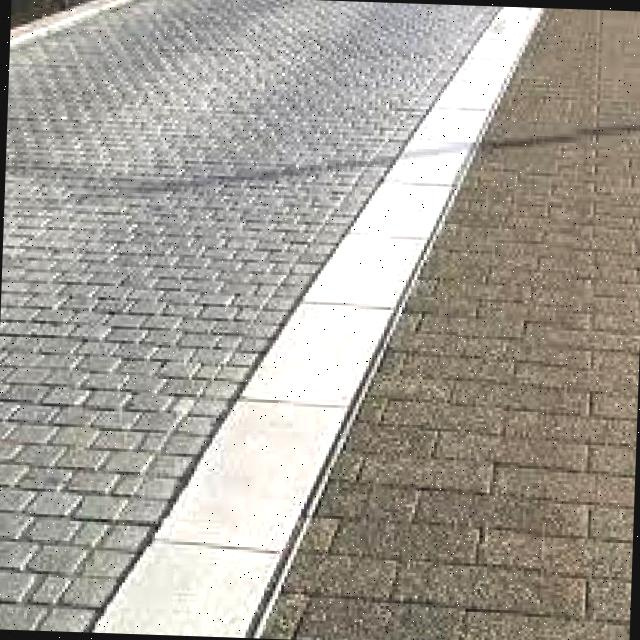curb: (106, 368, 382, 640), (297, 103, 498, 398), (463, 9, 549, 114)
